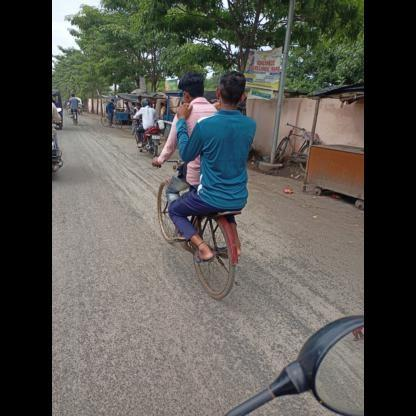Bicycle: (143, 150, 270, 309)
